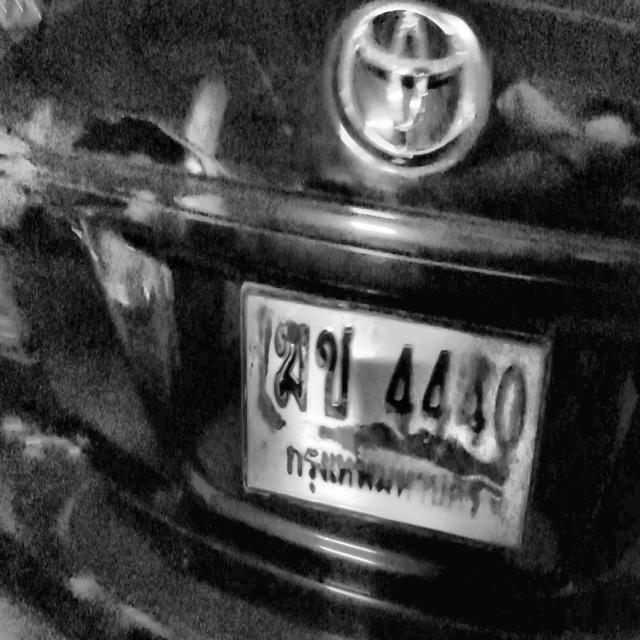license-plate: (244, 288, 544, 554)
